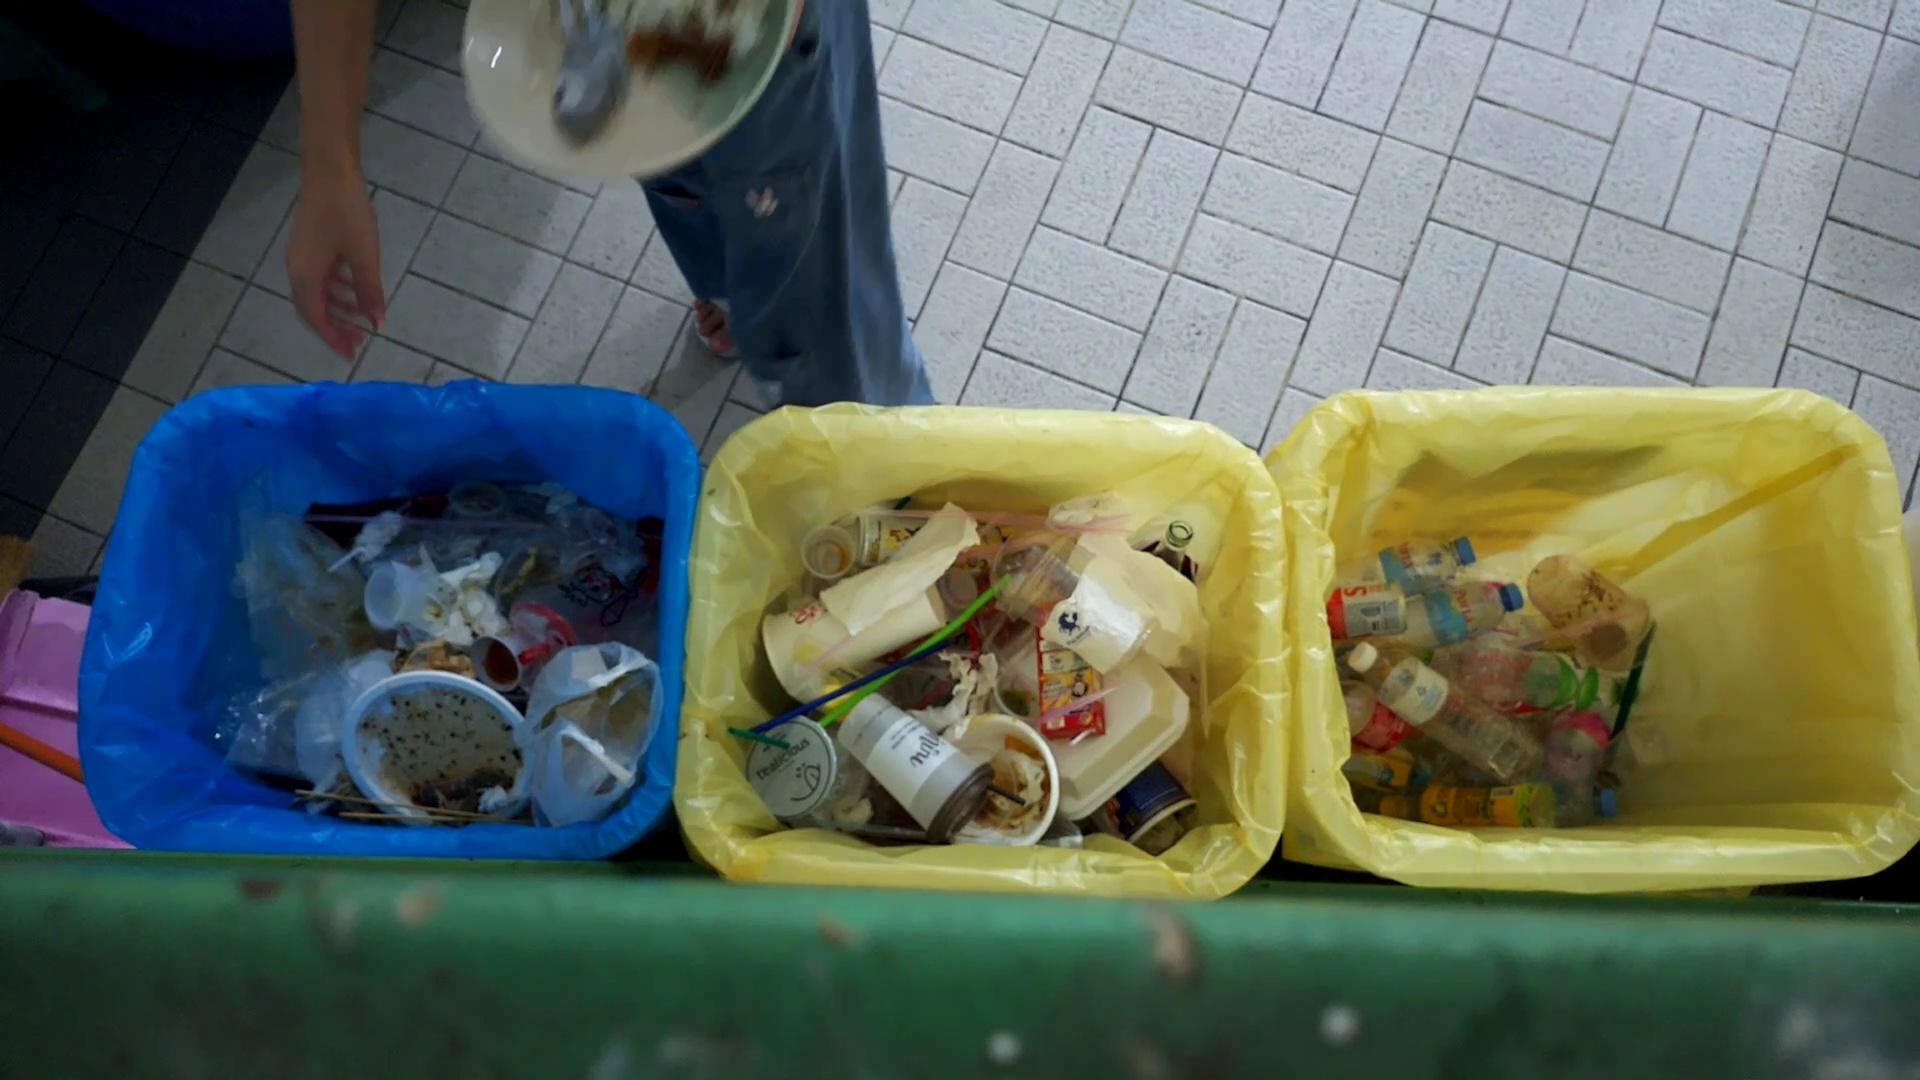dirty food container: (336, 671, 535, 824), (926, 713, 1064, 852)
food container: (364, 559, 429, 630), (472, 630, 531, 691), (803, 522, 856, 580)
plastic bottle: (1349, 641, 1551, 782), (1367, 582, 1527, 644), (1374, 782, 1555, 828), (1335, 534, 1480, 591)
plastic cup: (986, 524, 1162, 675), (837, 690, 997, 844), (1527, 551, 1658, 666), (749, 715, 839, 822)
sticks: (293, 785, 510, 824)
straw: (811, 566, 998, 737), (749, 654, 934, 750), (843, 501, 1139, 547), (902, 696, 980, 835), (1027, 720, 1229, 756), (302, 513, 556, 537), (725, 725, 793, 754)
tissue paper: (815, 500, 984, 632), (1040, 556, 1154, 673), (415, 554, 508, 642), (1047, 492, 1137, 521), (476, 785, 513, 820)
zero waste cup: (756, 574, 948, 702)
